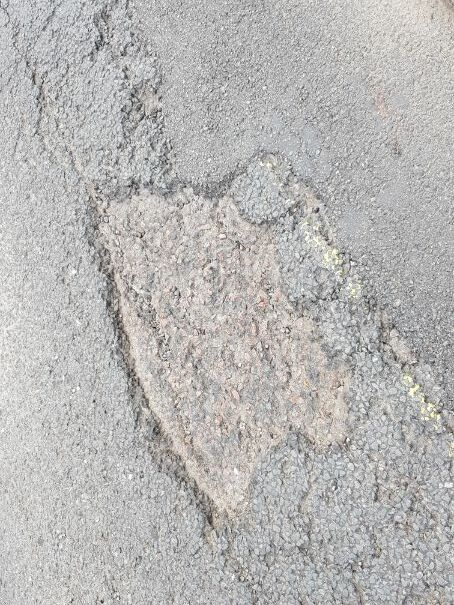pothole: (74, 146, 401, 532)
